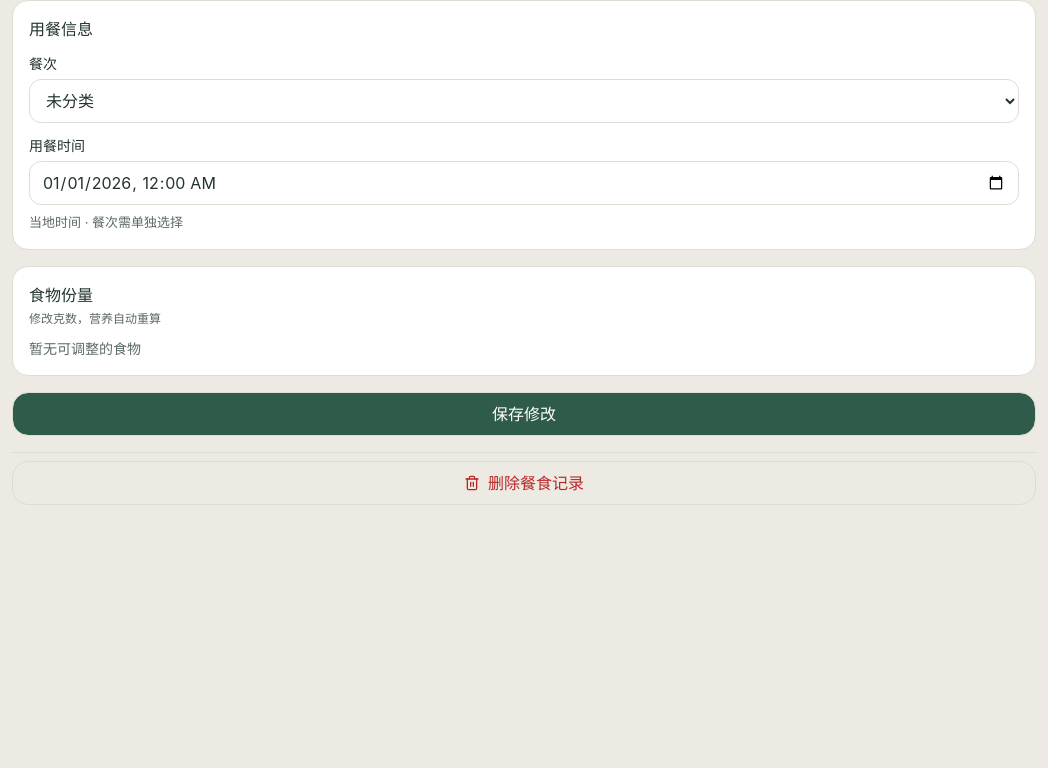
Test case: 餐食编辑 › 未来时间不发送请求，保存失败保留用户填写内容
Expected: the button "保存修改" is enabled, [12,392,1036,436]
Select "加餐" in the dropdown labelled "餐次" at (524, 101), box [29,79,1019,123]
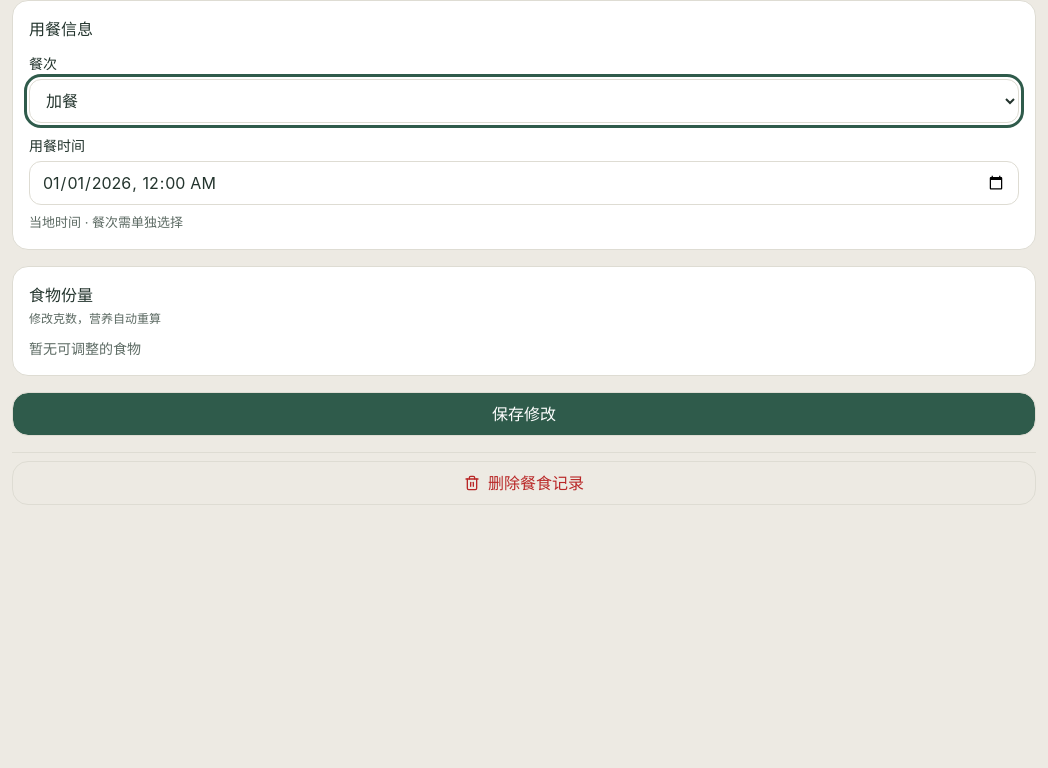
Replace the text in the field labelled "用餐时间" with "2099-01-01T12:00" at (524, 183), box [29,161,1019,205]
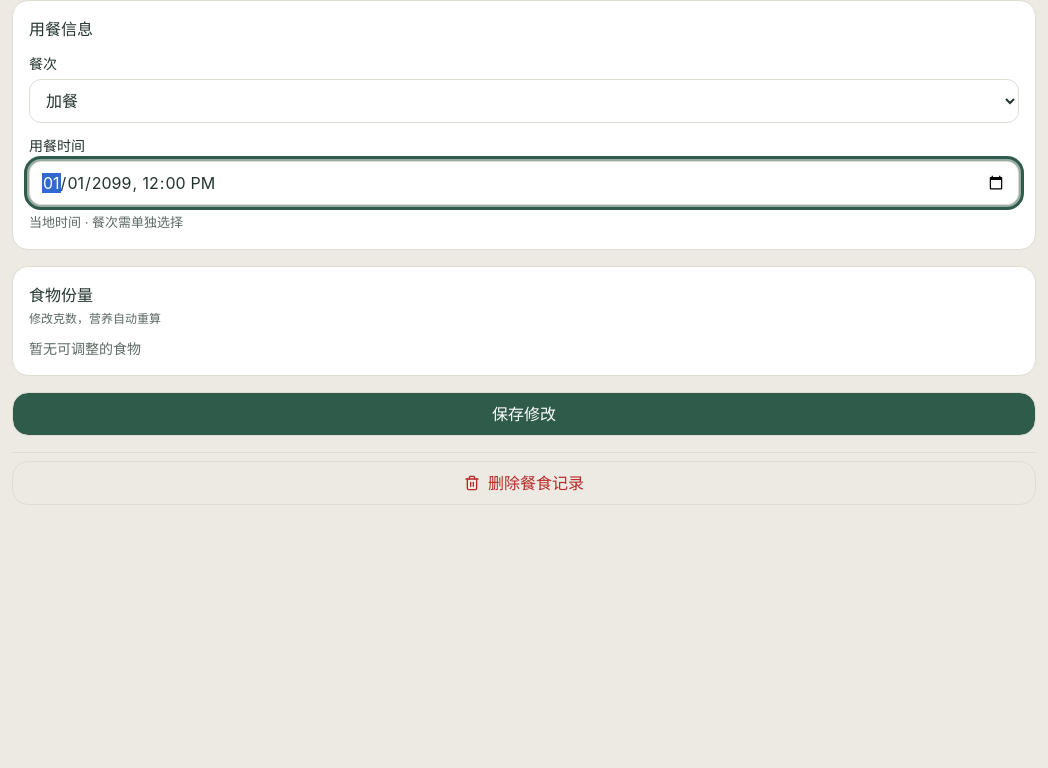
Click the button "保存修改" at (524, 414), box [12,392,1036,436]
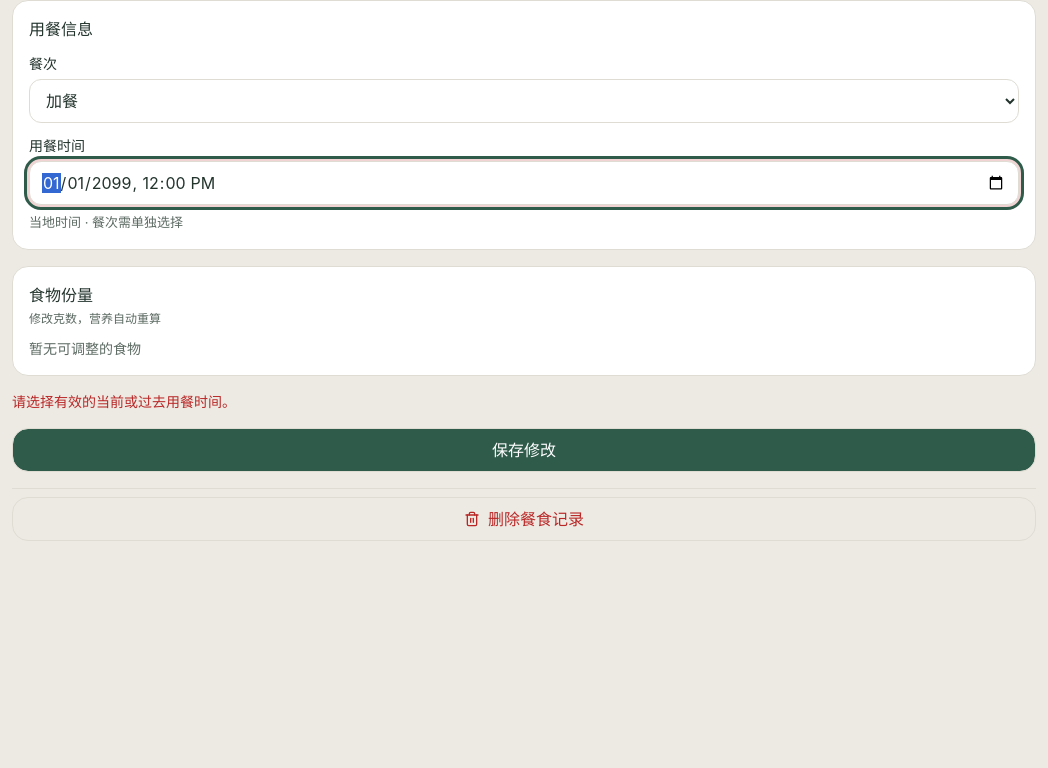
Result: the message shows "请选择有效的当前或过去用餐时间" at [12,392,236,410]
Replace the text in the field labelled "用餐时间" with "2026-01-01T12:00" at (524, 183), box [29,161,1019,205]
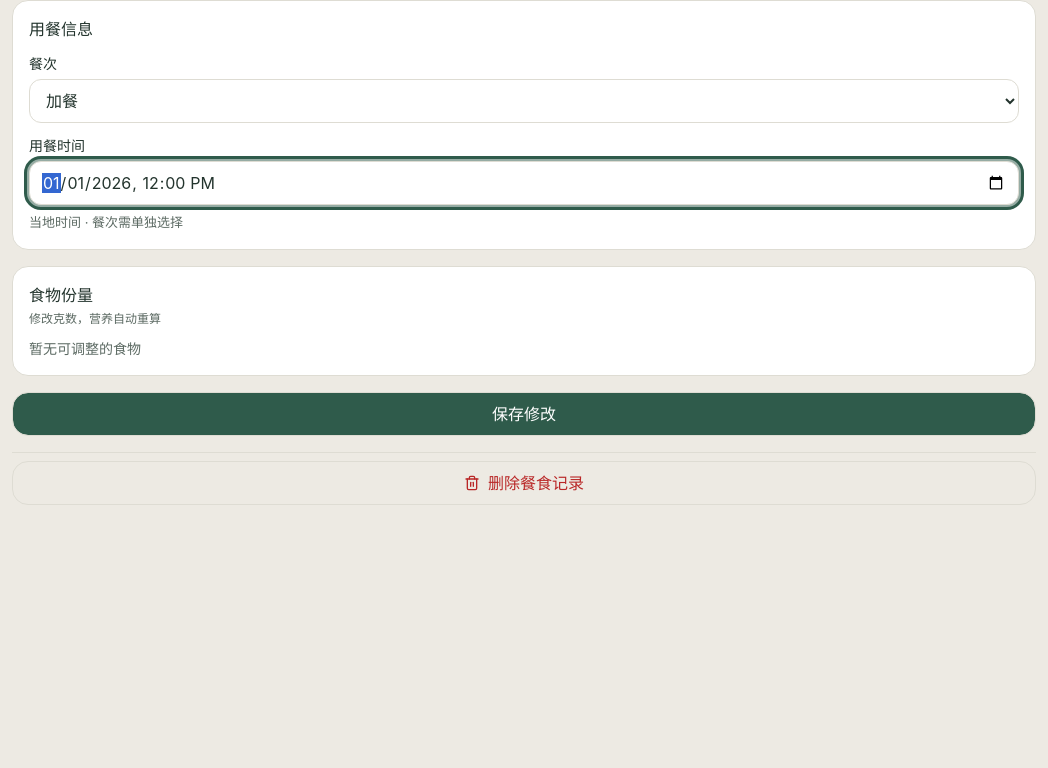
Click the button "保存修改" at (524, 414), box [12,392,1036,436]
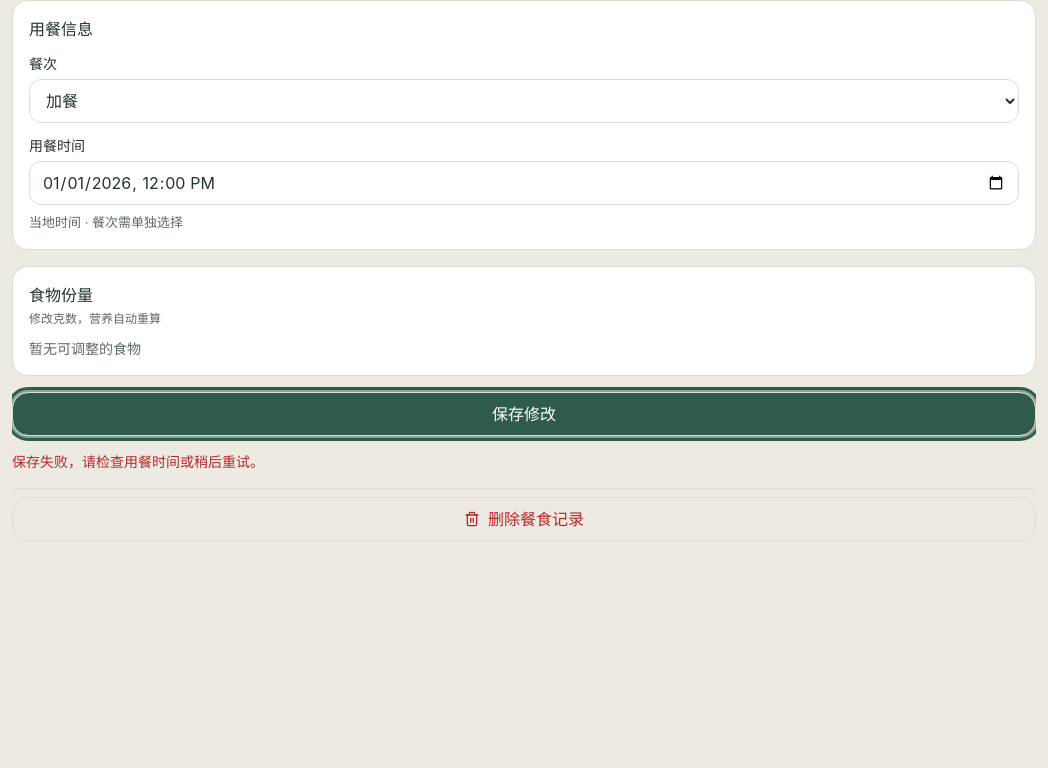
Result: the text "保存失败，请检查用餐时间或稍后重试。" is shown at [12,452,264,470]
